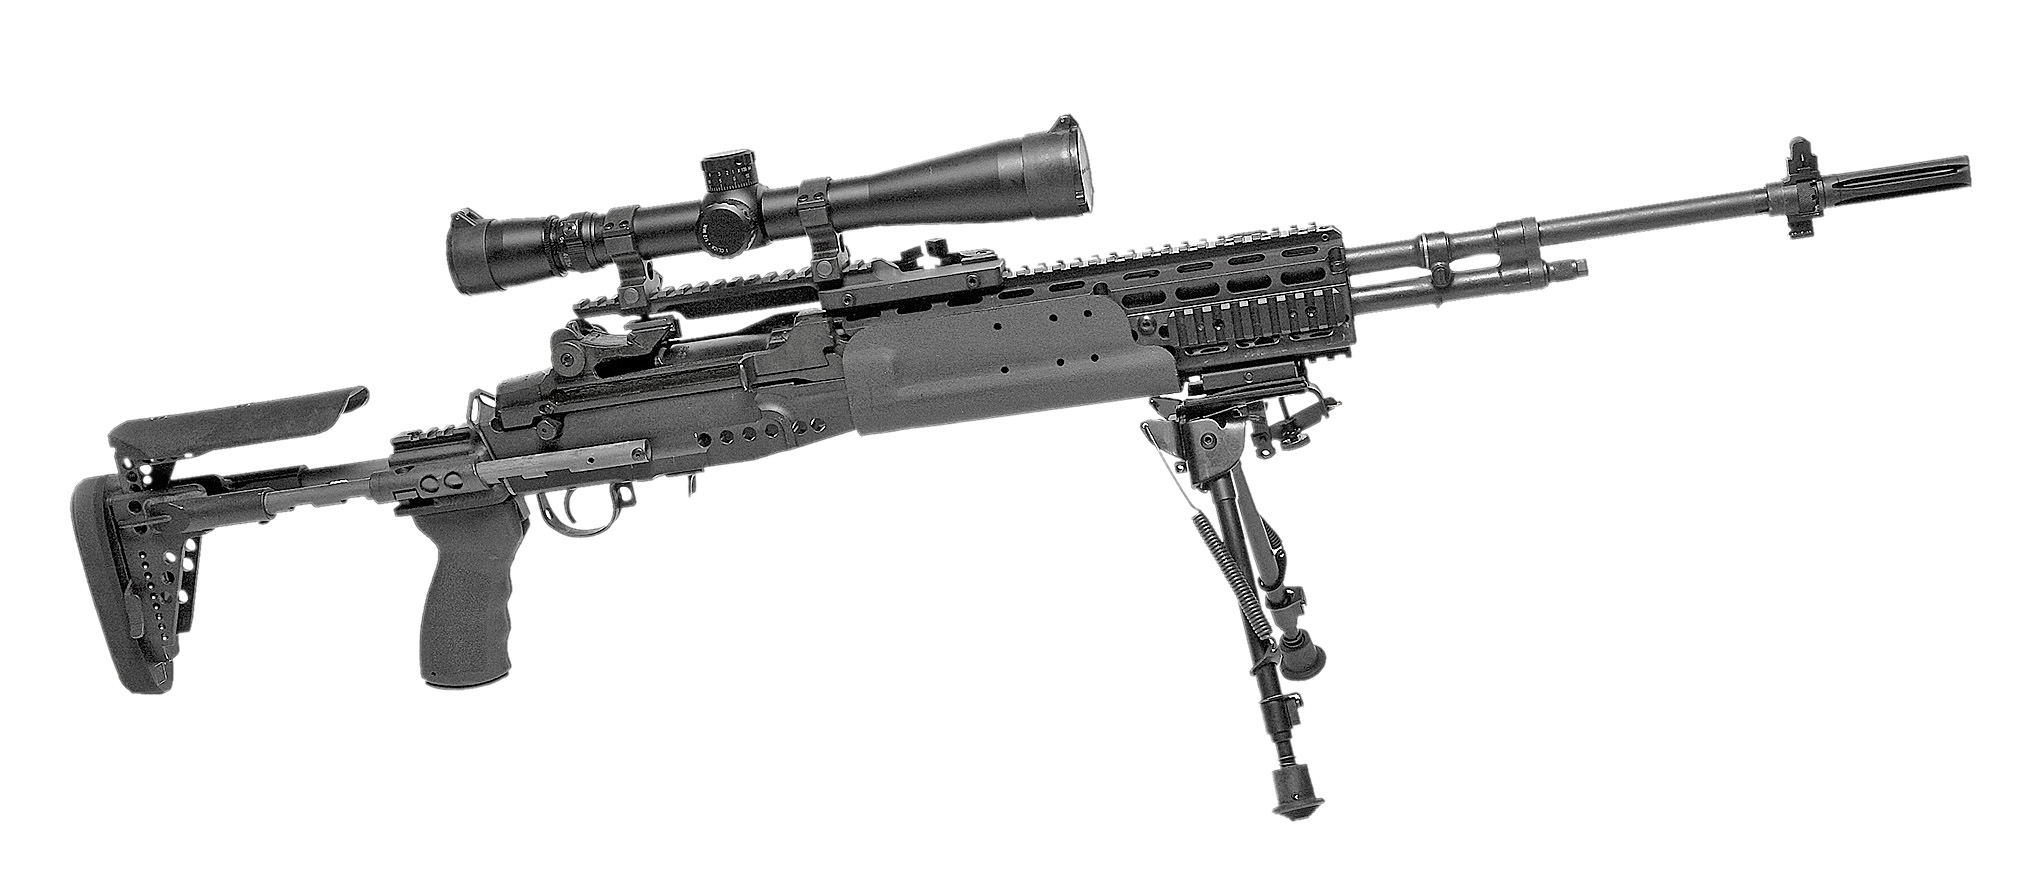Gun: (381, 94, 1922, 697)
